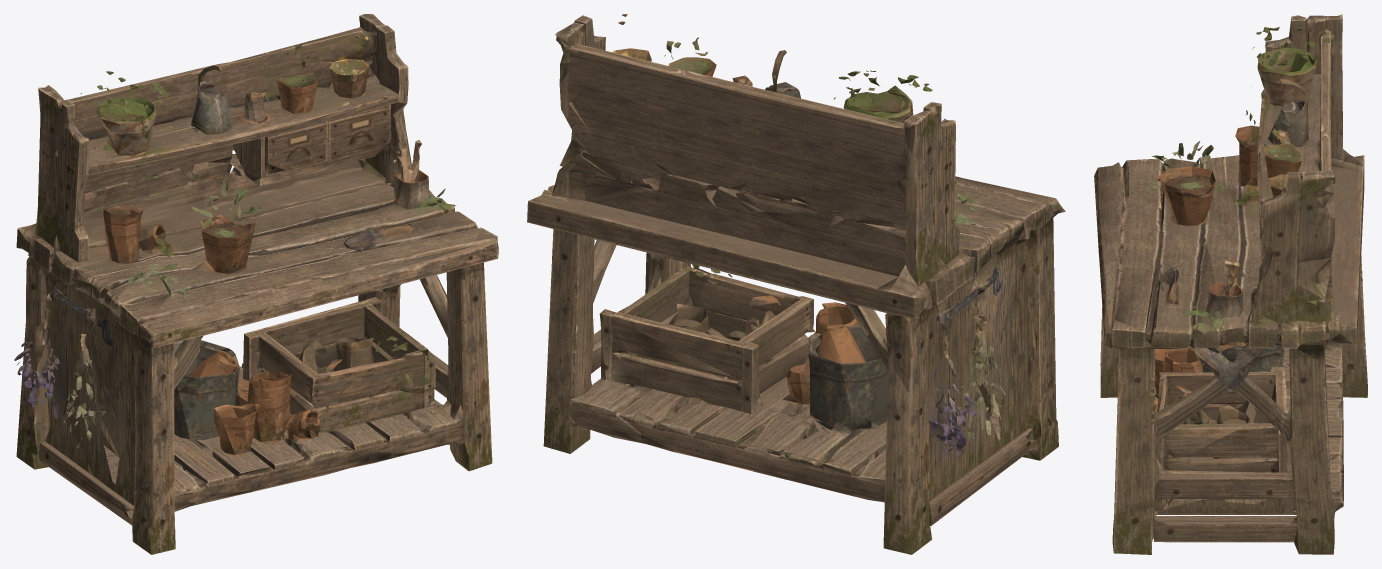
The model's file is apothecary-bench.glb.
3 views of the same model, side by side, from view 1: azimuth 30°, elevation 25°; view 2: azimuth 150°, elevation 25°; view 3: azimuth 270°, elevation 25° (orthographic). The views are drawn at different scales.
Parts seen in each view (by area): view 1: Mesh0; view 2: Mesh0; view 3: Mesh0.
Part boxes in pixels (left/top/right/bottom): Mesh0: left=14, top=14, right=498, bottom=554; Mesh0: left=527, top=14, right=1065, bottom=554; Mesh0: left=1094, top=14, right=1367, bottom=554.
Size of the model in its own units: 1.1 by 1.06 by 0.6858.
Materials: 1 (1 with a texture image).
